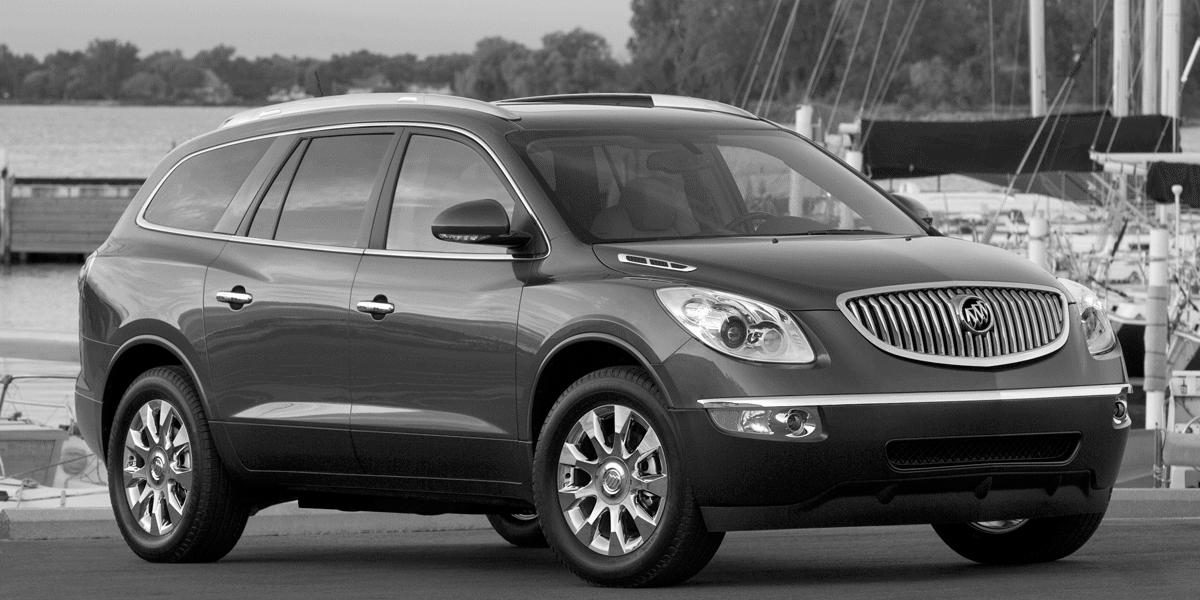car: (67, 82, 1140, 594)
